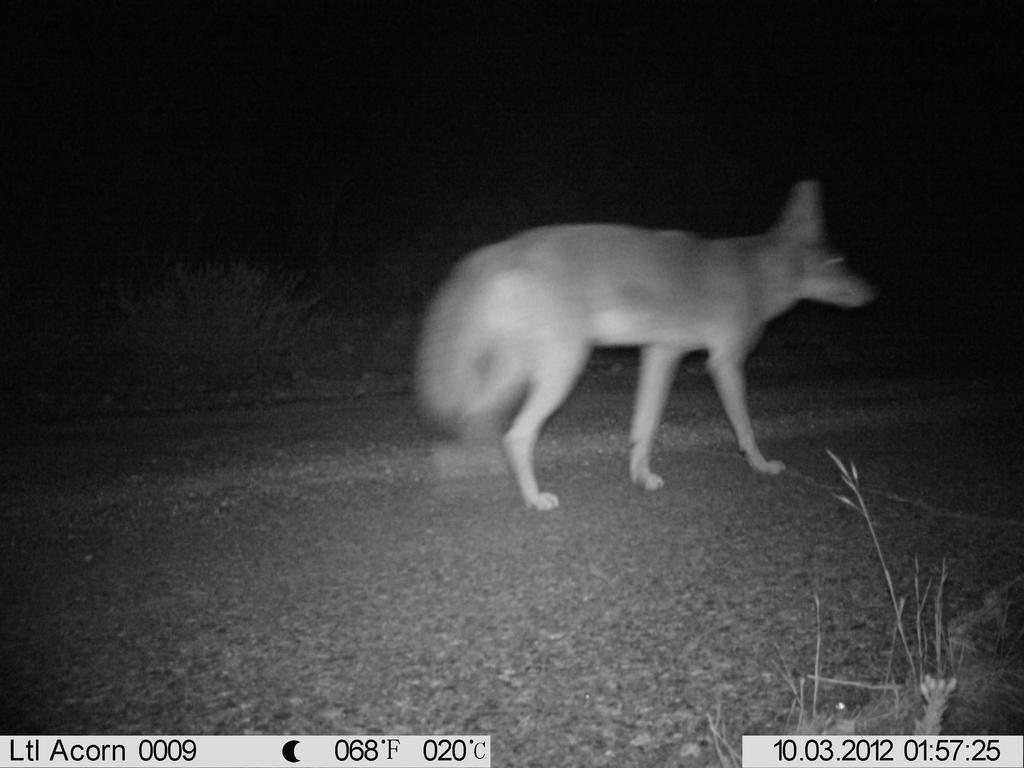coyote: (405, 168, 893, 521)
